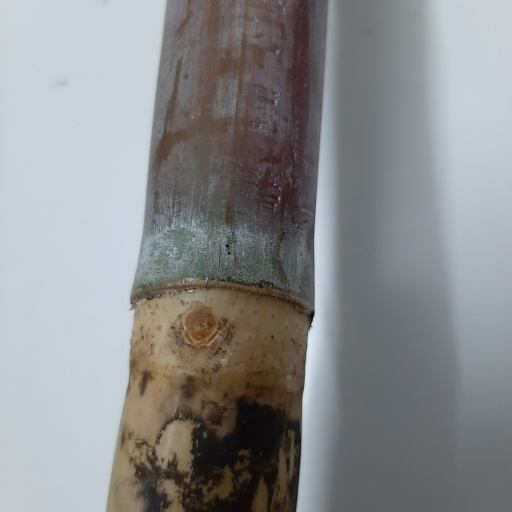Bud: (183, 309, 216, 344)
